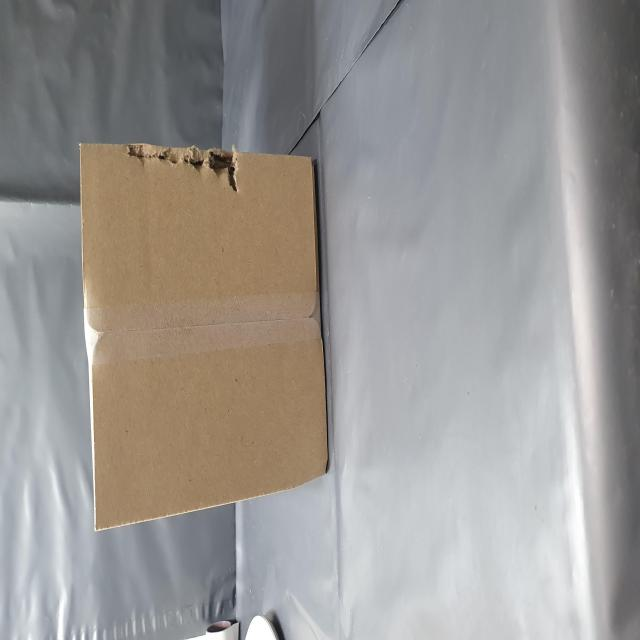damaged: (252, 232, 280, 420)
